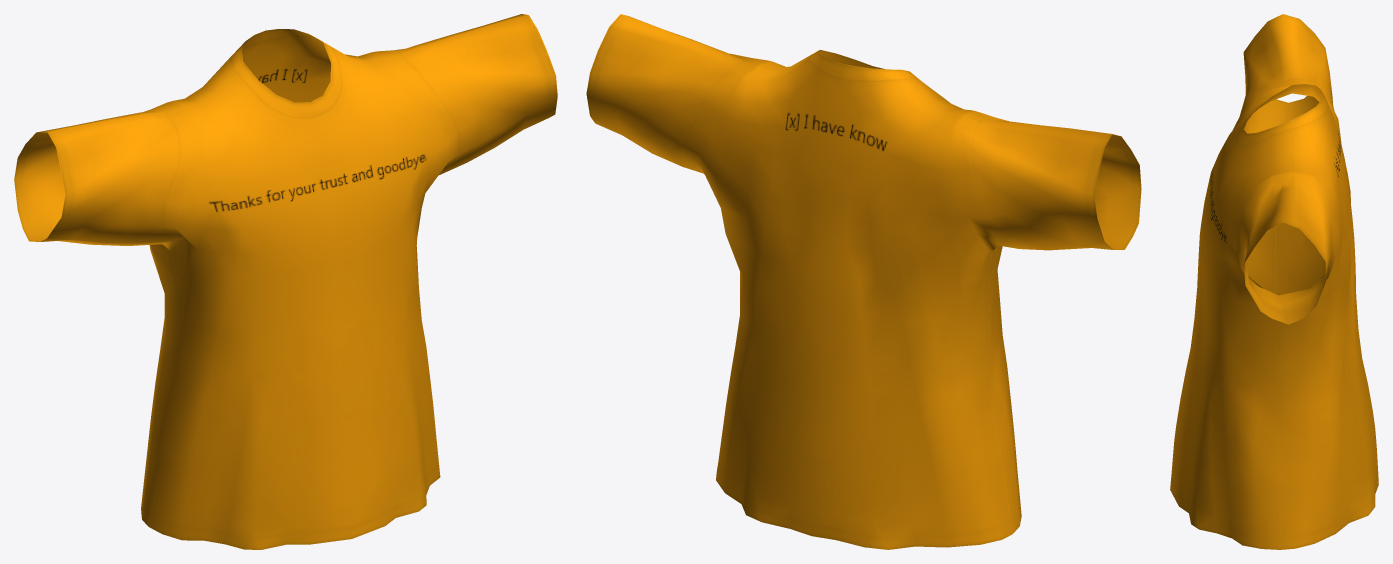
The model's file is 148_tshirt_t.glb.
3 views of the same model, side by side, from view 1: azimuth 30°, elevation 25°; view 2: azimuth 150°, elevation 25°; view 3: azimuth 270°, elevation 25° (orthographic). The views are drawn at different scales.
Visible parts, largest first — view 1: tshirt_tpose; view 2: tshirt_tpose; view 3: tshirt_tpose.
Part boxes in pixels (<box>): tshirt_tpose: <box>14,14,557,549</box>; tshirt_tpose: <box>586,14,1141,549</box>; tshirt_tpose: <box>1170,14,1378,549</box>.
Size of the model in its own units: 0.8467 by 0.704 by 0.3368.
1 material, 1 textured.
